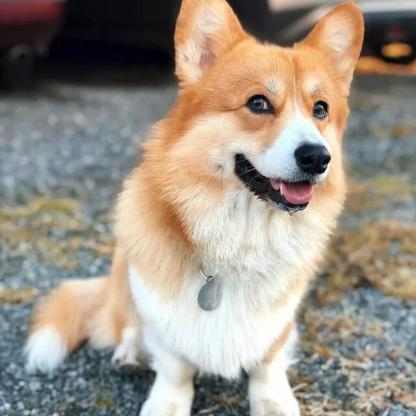Korgi: (19, 0, 370, 415)
